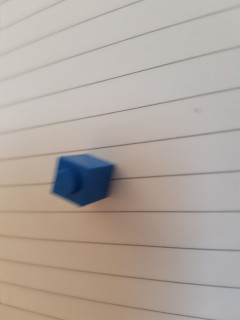1x1 blue: (48, 152, 119, 209)
